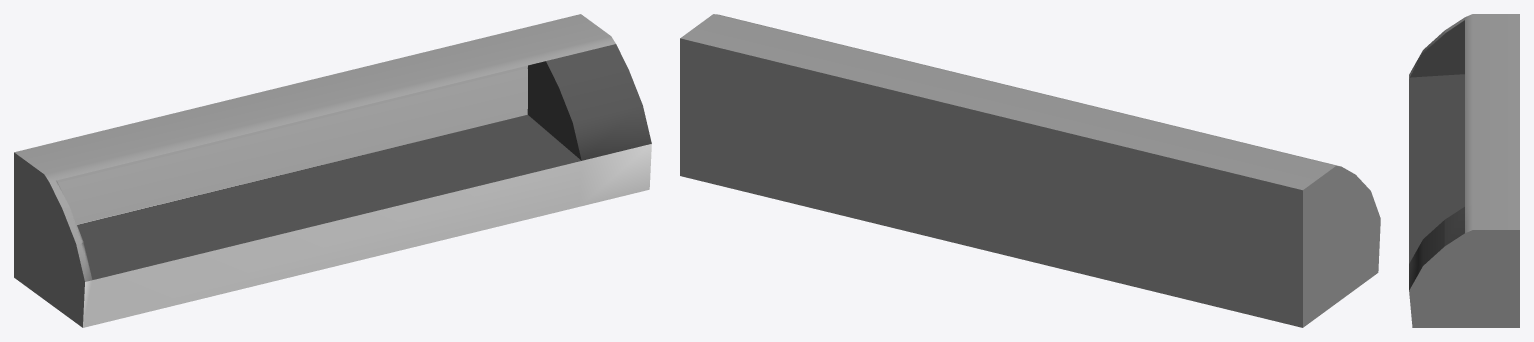
Rendered from Sushi_display.fbx.
3 views of the same model, side by side, from view 1: azimuth 30°, elevation 25°; view 2: azimuth 150°, elevation 25°; view 3: azimuth 270°, elevation 25° (orthographic). The views are drawn at different scales.
Visible parts, largest first — view 1: pCube1; view 2: pCube1; view 3: pCube1.
Part boxes in pixels (x1,y1,x2,y2): pCube1: (14,14,651,327); pCube1: (680,14,1380,327); pCube1: (1409,14,1519,327).
Bounding box in the file's own units: 35.28 × 7.46 × 7.65.
